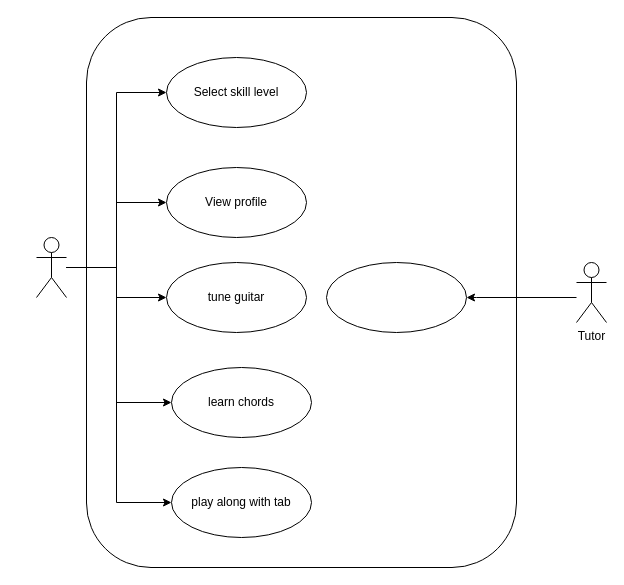
This 624x585 diagram has some shape labels left out. Each missing label, with the centre of its shape:
Guitar player: the point at 51,267
Listening to audio: the point at 396,297
